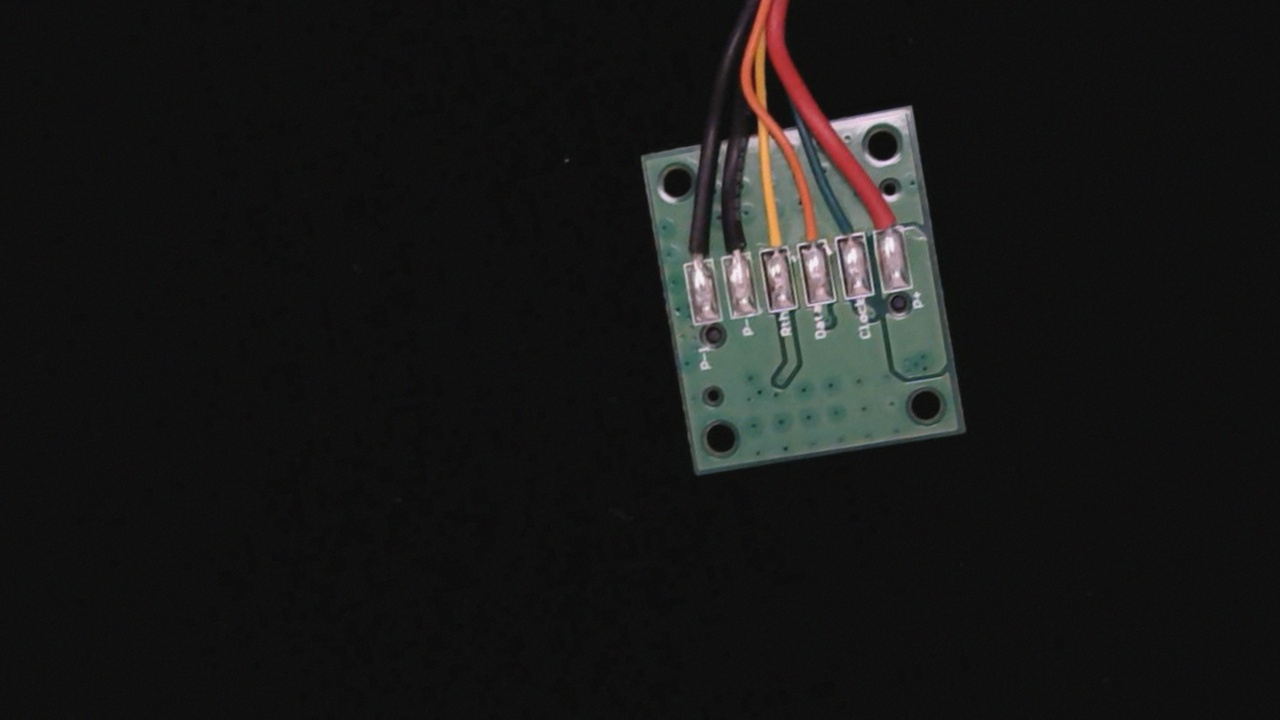Black: (708, 203, 756, 281)
Black1: (672, 213, 717, 285)
Green: (822, 192, 869, 267)
Orange: (786, 189, 831, 266)
Red: (859, 181, 906, 257)
Yellow: (745, 192, 793, 272)
